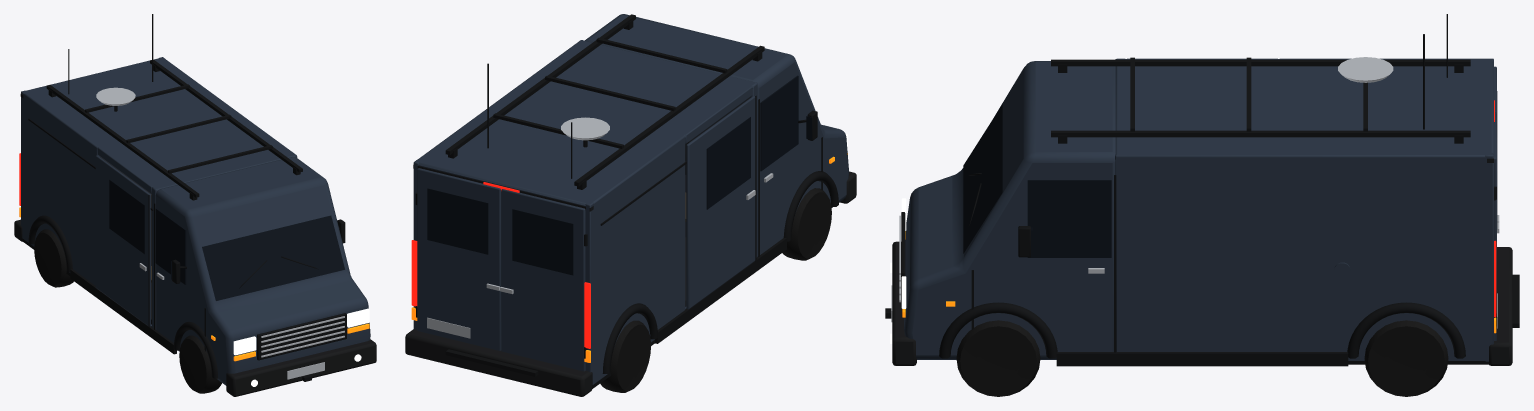
File: van_ext.glb
3 views of the same model, side by side, from view 1: azimuth 30°, elevation 25°; view 2: azimuth 150°, elevation 25°; view 3: azimuth 270°, elevation 25° (orthographic). The views are drawn at different scales.
Visible parts, largest first — view 1: body_paint, body_glass, body_trim, door_paint, body_rubber, body_chrome, door_glass, wheel0_tire, wheel2_tire, body_headlight; view 2: body_paint, body_trim, rear_r_paint, rear_l_paint, door_paint, body_rubber, rear_l_glass, rear_r_glass, body_glass, door_glass, wheel2_tire, wheel0_tire (+3 smaller); view 3: body_paint, body_trim, body_glass, wheel3_tire, wheel1_tire, body_rubber, body_chrome.
Boxes of the visible parts, x1,y1,x2,y2 form: body_paint: (21,57,370,385); body_glass: (155,208,344,300); body_trim: (22,14,346,381); door_paint: (95,155,150,326); body_rubber: (14,94,376,396); body_chrome: (96,87,344,379); door_glass: (109,179,144,254); wheel0_tire: (179,335,221,393); wheel2_tire: (34,229,73,287); body_headlight: (233,308,369,386); body_paint: (413,14,849,384); body_trim: (445,14,838,388); rear_r_paint: (501,189,585,371); rear_l_paint: (417,168,501,350); door_paint: (686,96,755,309); body_rubber: (405,165,856,396); rear_l_glass: (427,188,488,254); rear_r_glass: (512,209,573,275); body_glass: (760,75,812,171); door_glass: (706,117,750,209); wheel2_tire: (600,320,650,392); wheel0_tire: (782,188,831,260); body_paint: (904,58,1493,361); body_trim: (885,14,1519,366); body_glass: (963,104,1111,257); wheel3_tire: (1364,320,1448,396); wheel1_tire: (956,320,1040,396); body_rubber: (892,158,1512,365); body_chrome: (891,57,1393,322).
Size of the model in its own units: 2.36 by 3.21 by 5.44.
